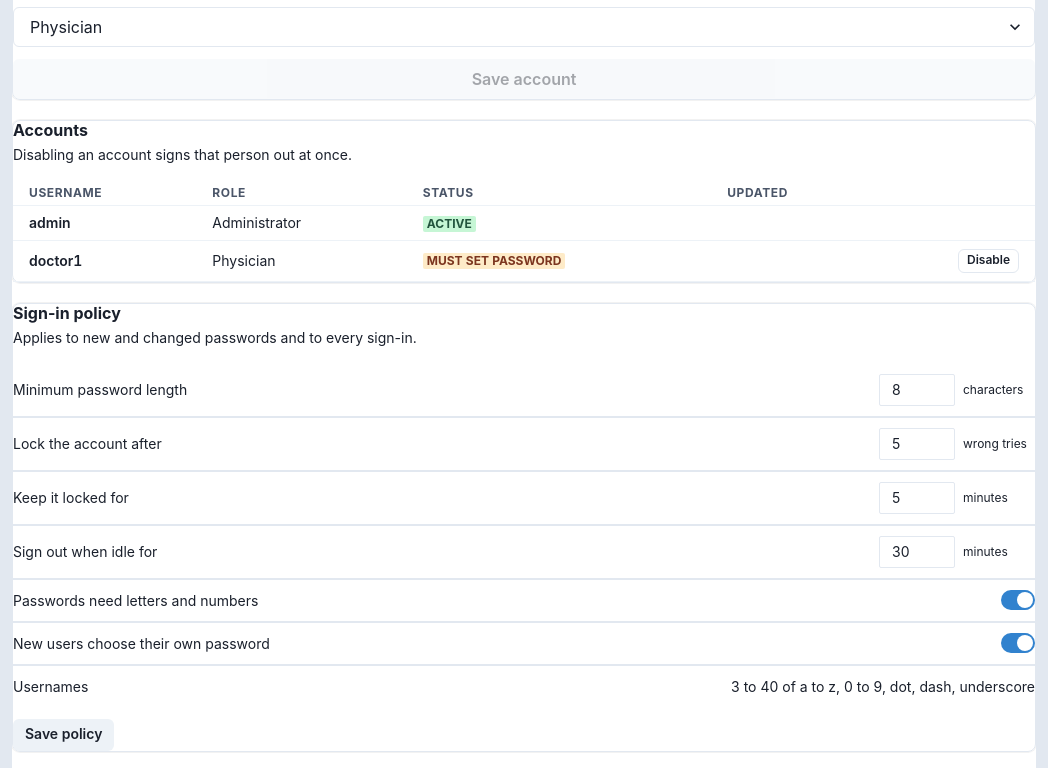
Test case: sign-in policy panel › shows the rules in plain words and saves a change
The width and height of the screenshot is (1048, 768).
(page scrolled)
Expected: the text "Sign out when idle for" is shown, [13,541,157,562]
Replace the text in the number field named "Minimum password length" with "10" at [917, 390], box [879,374,955,406]
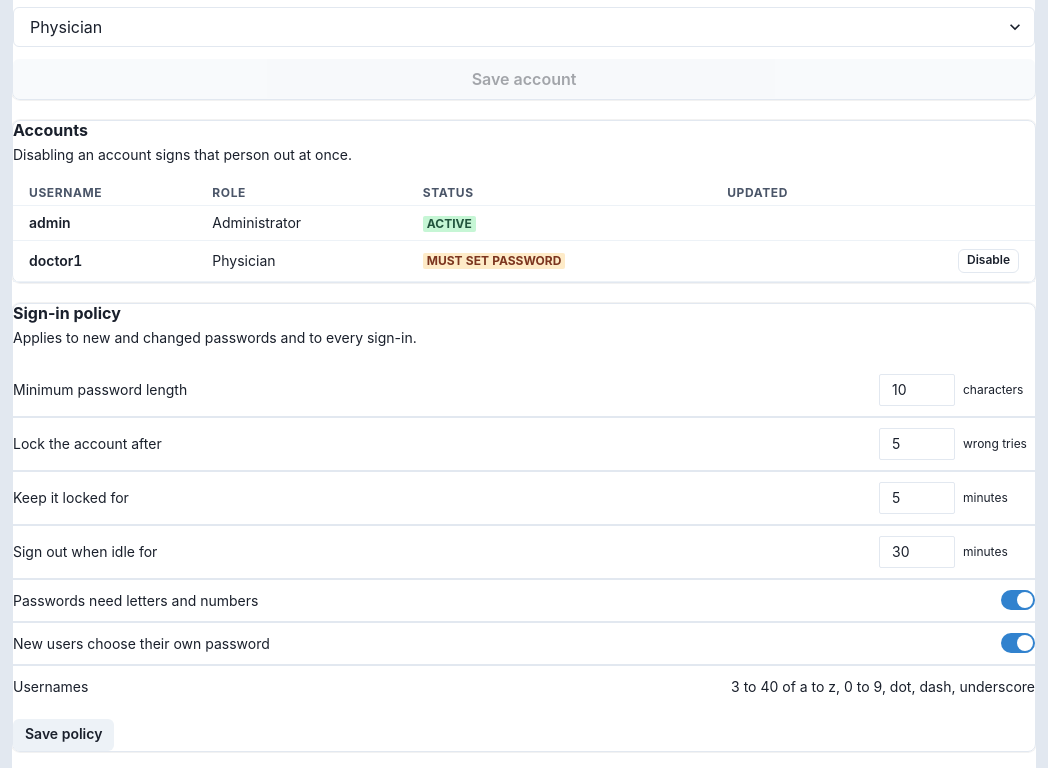
Click the button "Save policy" at [64, 735], box [13,719,114,751]
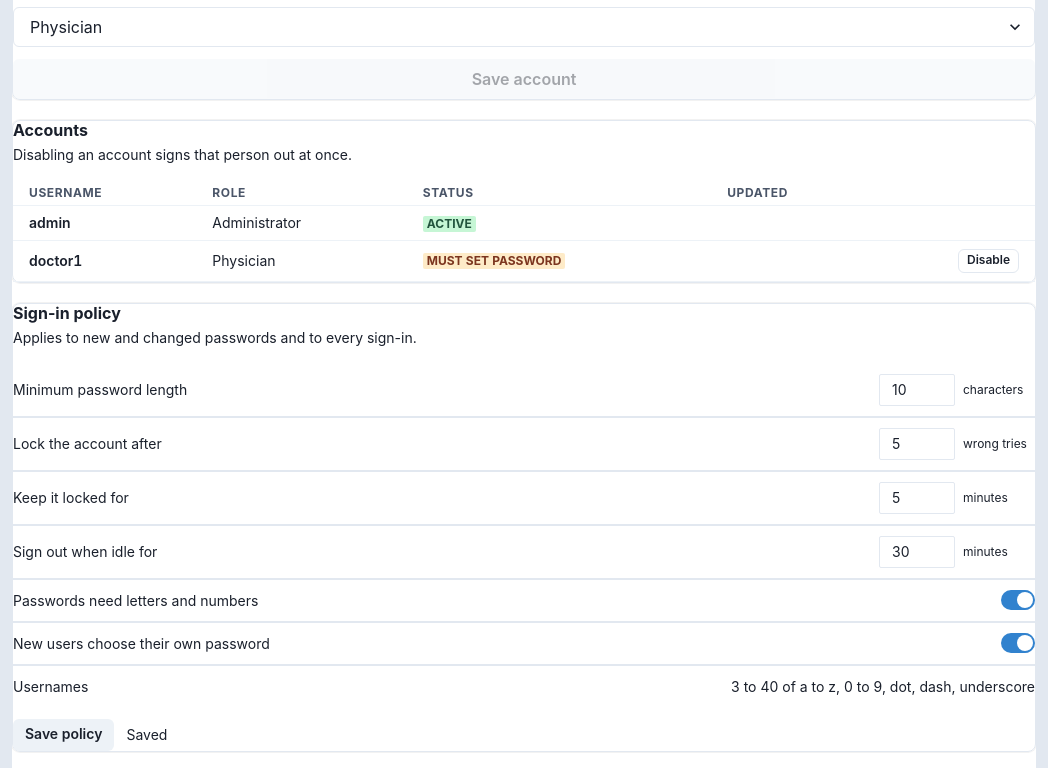
Result: the text "Saved" is shown at [126,724,167,745]
